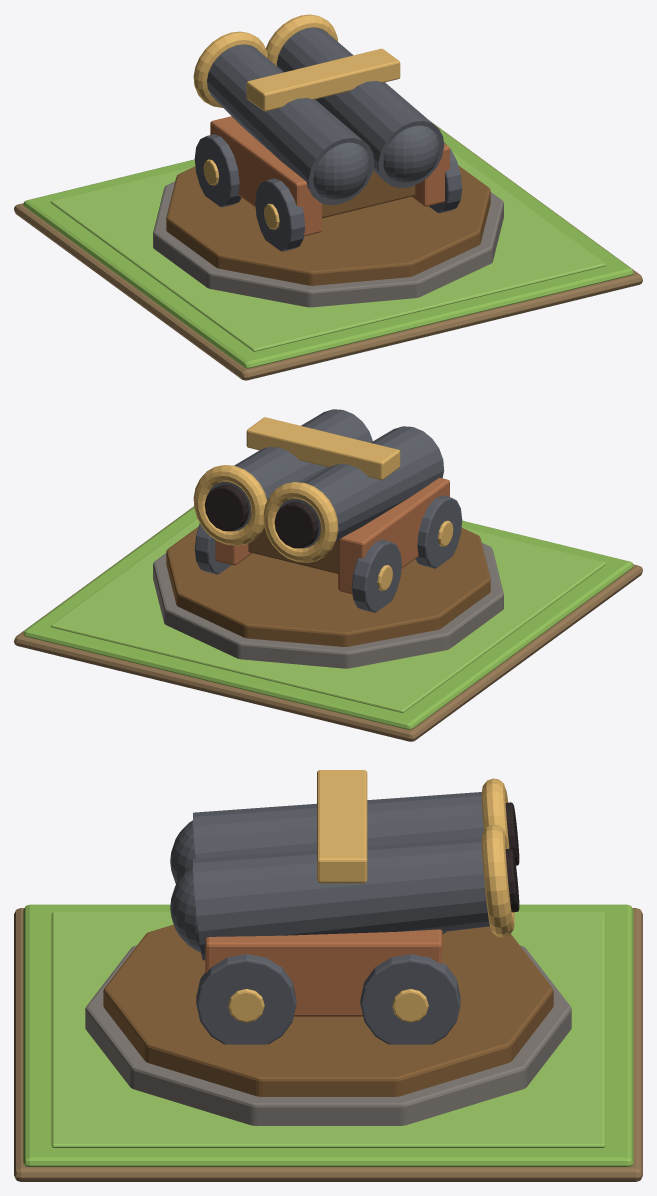
File: double_cannon_lv3.glb
3 renders of one model, top to bottom at view 1: azimuth 30°, elevation 25°; view 2: azimuth 150°, elevation 25°; view 3: azimuth 270°, elevation 25°, orthographic. The views are drawn at different scales.
Visible parts, largest first — view 1: Base_Inner, TurntableWood, Base_Grass, TurntableStone, TwinBarrel_-1, Base_Dirt, TwinBarrel_1, TwinYokeStrap, DC_Cheek_-1, TwinBreech_-1, TwinBreech_1, DC_Wheel_-1_-1 (+6 smaller); view 2: Base_Inner, TurntableWood, Base_Grass, TurntableStone, Base_Dirt, TwinBarrel_-1, TwinYokeStrap, DC_Cheek_-1, TwinBarrel_1, TwinMuzzleLip_-1, TwinMuzzleLip_1, DC_Wheel_-1_1 (+6 smaller); view 3: Base_Inner, TurntableWood, Base_Grass, TwinBarrel_1, TurntableStone, Base_Dirt, TwinBarrel_-1, DC_Cheek_1, DC_Wheel_1_1, DC_Wheel_1_-1, TwinYokeStrap, TwinMuzzleLip_1 (+6 smaller).
Part boxes in pixels (bbox=[...]): Base_Inner: bbox=[50, 151, 606, 351]; TurntableWood: bbox=[166, 165, 490, 285]; Base_Grass: bbox=[23, 124, 633, 368]; TurntableStone: bbox=[153, 181, 503, 307]; TwinBarrel_-1: bbox=[207, 44, 374, 205]; Base_Dirt: bbox=[14, 120, 642, 380]; TwinBarrel_1: bbox=[276, 27, 444, 188]; TwinYokeStrap: bbox=[246, 48, 400, 111]; DC_Cheek_-1: bbox=[210, 116, 321, 236]; TwinBreech_-1: bbox=[313, 142, 369, 200]; TwinBreech_1: bbox=[383, 125, 439, 183]; DC_Wheel_-1_-1: bbox=[255, 178, 305, 251]; Base_Inner: bbox=[50, 518, 606, 712]; TurntableWood: bbox=[166, 526, 490, 646]; Base_Grass: bbox=[23, 507, 633, 729]; TurntableStone: bbox=[153, 543, 503, 668]; Base_Dirt: bbox=[14, 506, 642, 741]; TwinBarrel_-1: bbox=[278, 426, 444, 548]; TwinYokeStrap: bbox=[246, 417, 400, 479]; DC_Cheek_-1: bbox=[338, 477, 449, 593]; TwinBarrel_1: bbox=[208, 409, 372, 531]; TwinMuzzleLip_-1: bbox=[263, 482, 338, 562]; TwinMuzzleLip_1: bbox=[193, 465, 267, 545]; DC_Wheel_-1_1: bbox=[351, 539, 401, 612]; Base_Inner: bbox=[51, 912, 605, 1147]; TurntableWood: bbox=[103, 924, 553, 1096]; Base_Grass: bbox=[23, 904, 633, 1166]; TwinBarrel_1: bbox=[193, 838, 489, 960]; TurntableStone: bbox=[85, 945, 571, 1125]; Base_Dirt: bbox=[14, 908, 642, 1181]; TwinBarrel_-1: bbox=[193, 792, 483, 858]; DC_Cheek_1: bbox=[205, 929, 442, 1016]; DC_Wheel_1_1: bbox=[360, 954, 460, 1044]; DC_Wheel_1_-1: bbox=[196, 954, 296, 1044]; TwinYokeStrap: bbox=[317, 770, 367, 883]; TwinMuzzleLip_1: bbox=[481, 824, 514, 937].
Size of the model in its own units: 2.76 by 1.19 by 2.76.
